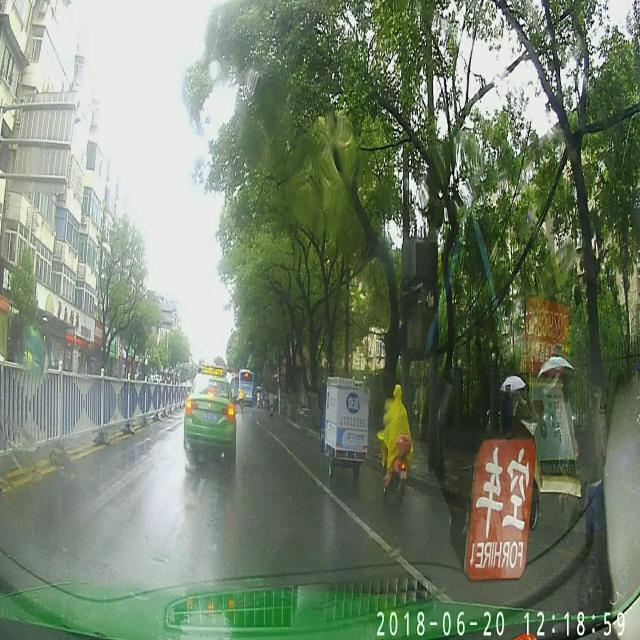car: (183, 367, 238, 467)
